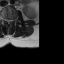CCS_normal: (7, 17, 9, 26)
LFS_normal: (11, 17, 13, 23)
LLS_normal: (9, 17, 11, 23)
RFS_normal: (4, 16, 6, 23)
RLS_normal: (6, 17, 7, 23)
